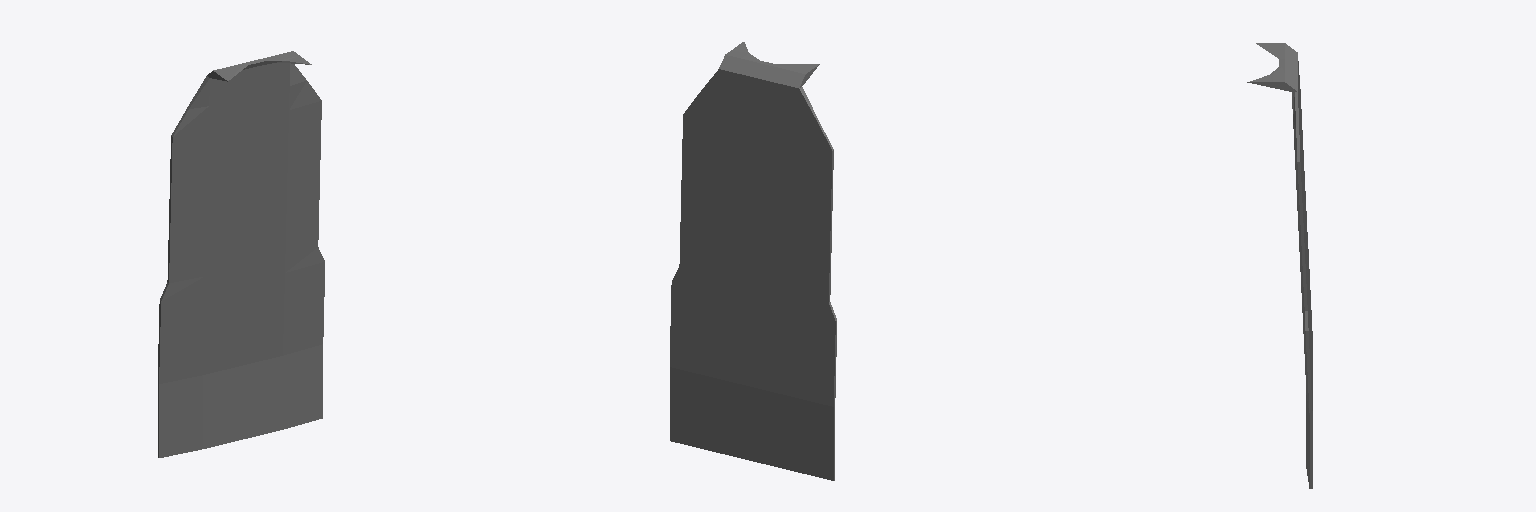
Rendered from ShoulderCape.obj.
3 renders of one model, left to right at view 1: azimuth 30°, elevation 25°; view 2: azimuth 150°, elevation 25°; view 3: azimuth 270°, elevation 25°, orthographic.
Parts seen in each view (by area): view 1: pCube1; view 2: pCube1; view 3: pCube1.
Part boxes in pixels (bbox=[...]): pCube1: bbox=[158, 51, 324, 457]; pCube1: bbox=[670, 42, 836, 480]; pCube1: bbox=[1247, 43, 1312, 488].
Size of the model in its own units: 46.37 by 104 by 16.